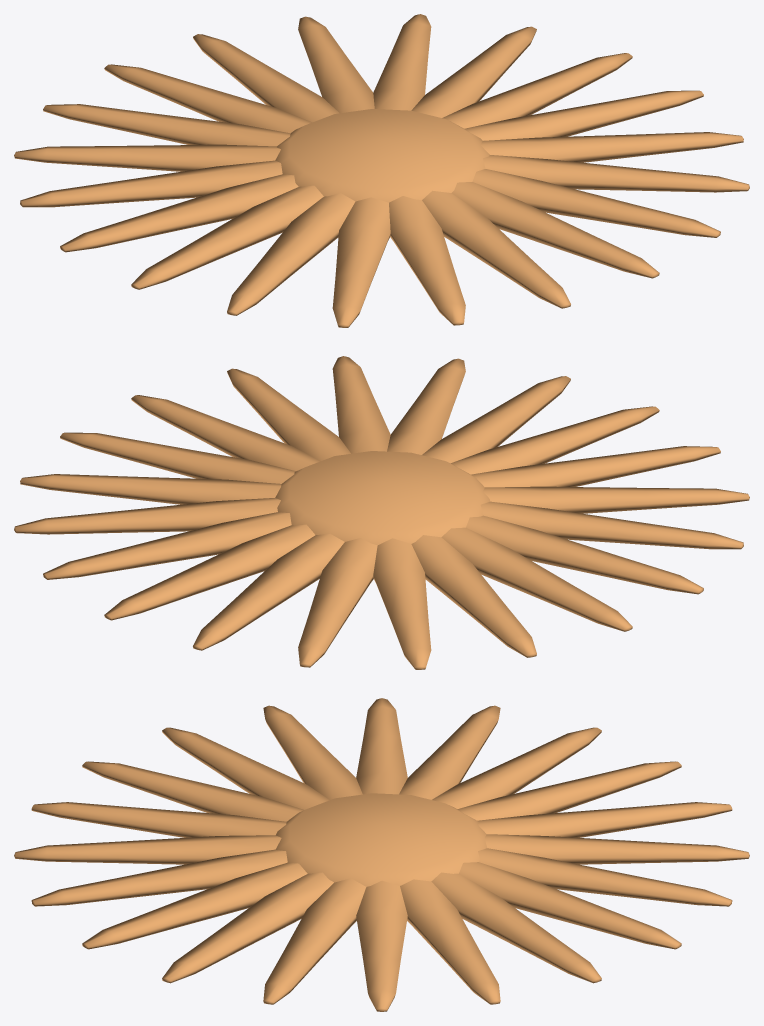
The model's file is starfish_sunflower_lo.glb.
The picture shows the model from 3 angles, top to bottom: view 1: azimuth 30°, elevation 25°; view 2: azimuth 150°, elevation 25°; view 3: azimuth 270°, elevation 25°; orthographic projection.
Parts seen in each view (by area): view 1: starfish_sunflower_lo; view 2: starfish_sunflower_lo; view 3: starfish_sunflower_lo.
Boxes of the visible parts, bbox=[...] form: starfish_sunflower_lo: bbox=[14, 14, 749, 327]; starfish_sunflower_lo: bbox=[14, 356, 749, 669]; starfish_sunflower_lo: bbox=[14, 698, 749, 1011].
Bounding box in the file's own units: 0.58 × 0.028 × 0.58.
